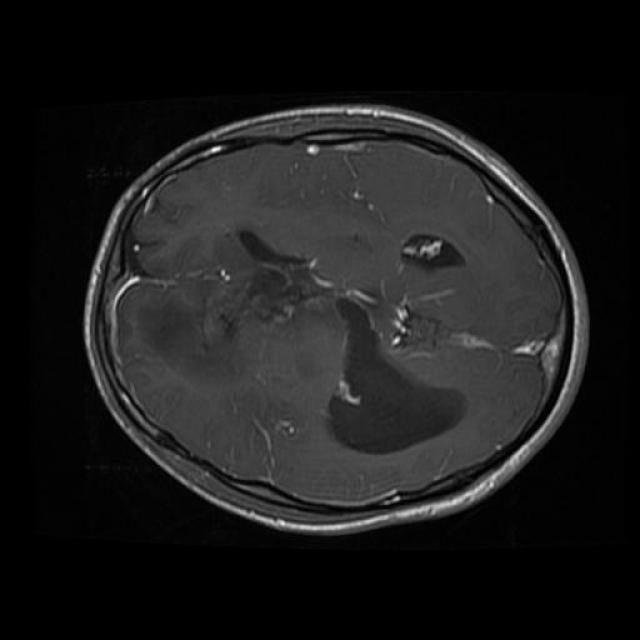Glioma: (327, 300, 465, 453)
